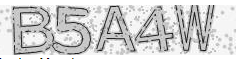4: (133, 5, 175, 54)
5: (52, 6, 93, 56)
A: (95, 4, 138, 56)
B: (10, 5, 54, 56)
W: (174, 4, 215, 54)
